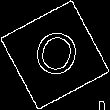O_S: (27, 24, 83, 86)
